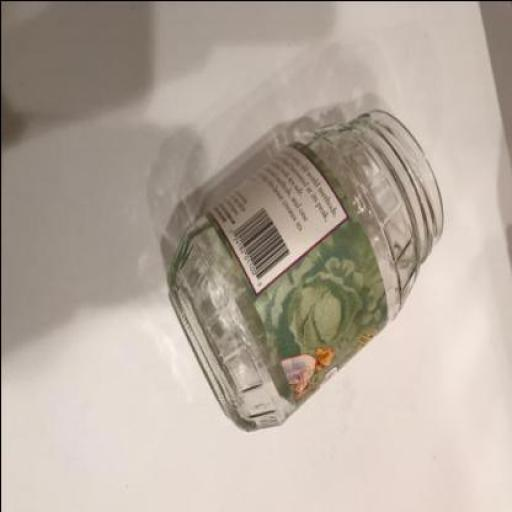glass: (168, 112, 444, 432)
